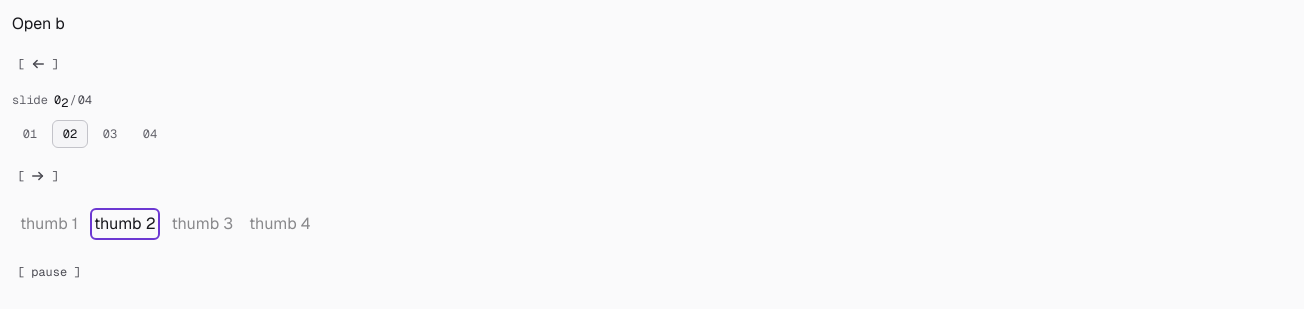
it: Carousel › only shows the play toggle with autoplay, and it pauses
Click the button with aria-label "Pause autoplay": (49, 272) top-left (12, 256), bottom-right (1292, 288)
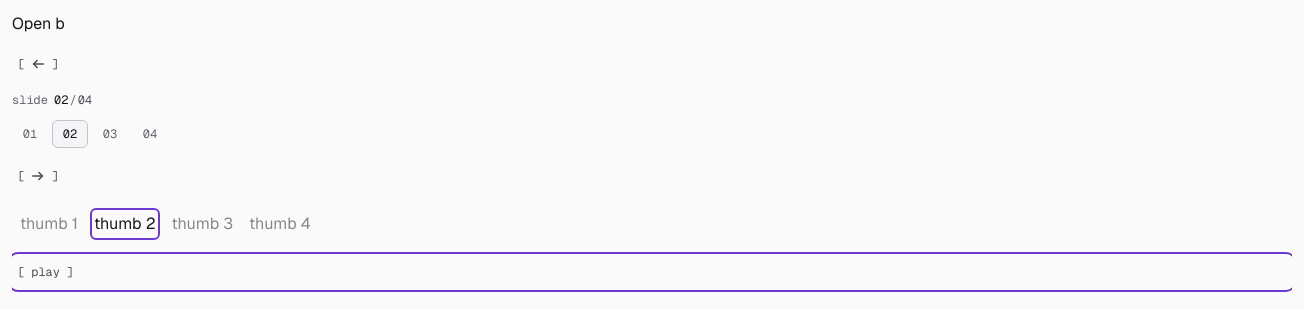
Check: the button with aria-label "Start autoplay" is shown, box top-left (12, 256), bottom-right (1292, 288)
